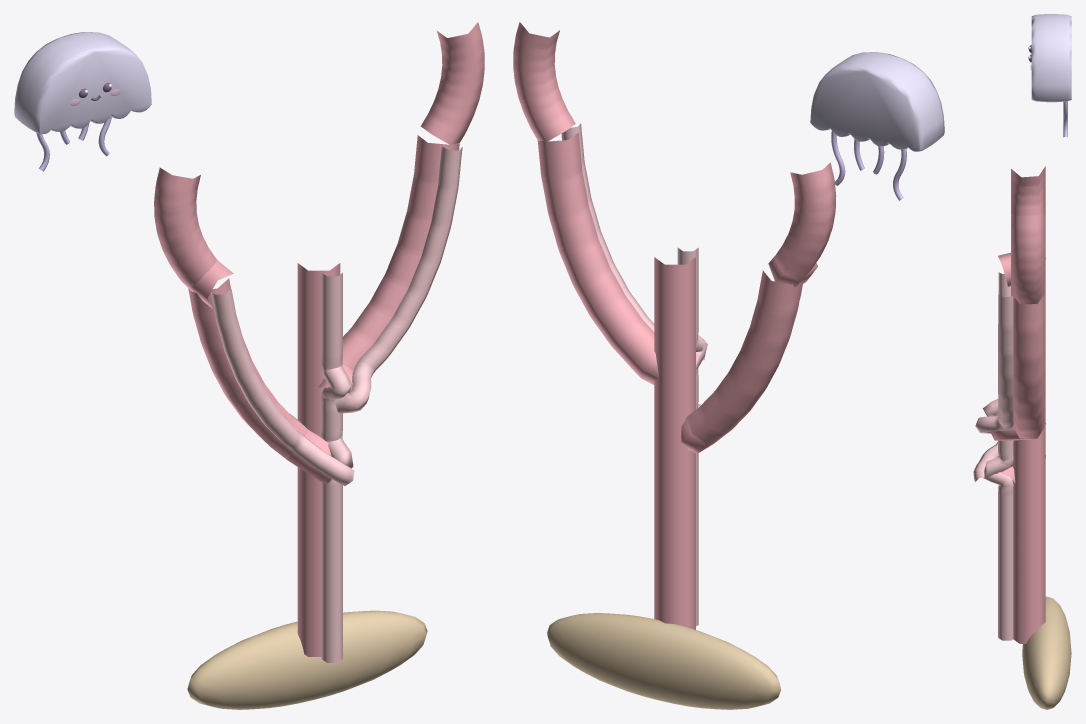
Rendered from decor_3_classic.glb.
3 renders of one model, left to right at view 1: azimuth 30°, elevation 25°; view 2: azimuth 150°, elevation 25°; view 3: azimuth 270°, elevation 25°, orthographic. The views are drawn at different scales.
Visible parts, largest first — view 1: decor_3_classic; view 2: decor_3_classic; view 3: decor_3_classic.
Boxes of the visible parts, box(x1,y1,x2,y2) form: decor_3_classic: box(14, 22, 484, 709); decor_3_classic: box(513, 22, 944, 709); decor_3_classic: box(973, 14, 1071, 709).
Bounding box in the file's own units: 9.56 × 14.7 × 2.27.
